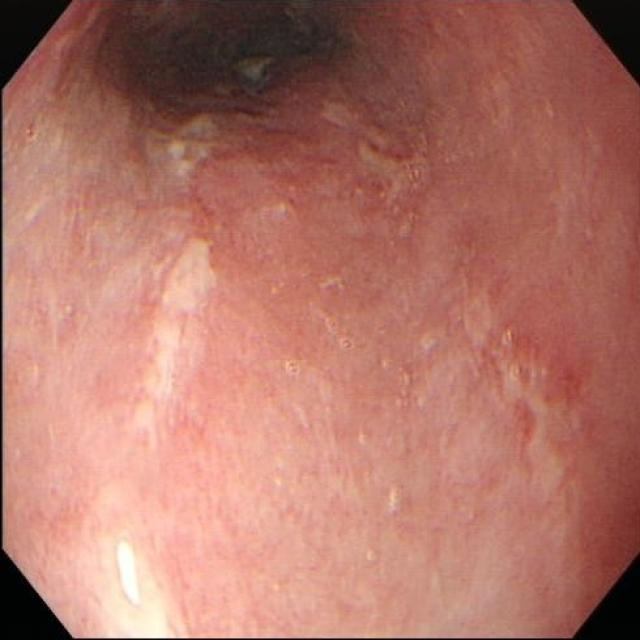A: (482, 311, 590, 453), (355, 125, 418, 178)
E: (134, 3, 313, 98)
J: (129, 236, 215, 445), (156, 107, 223, 175)
U: (111, 529, 150, 615)
